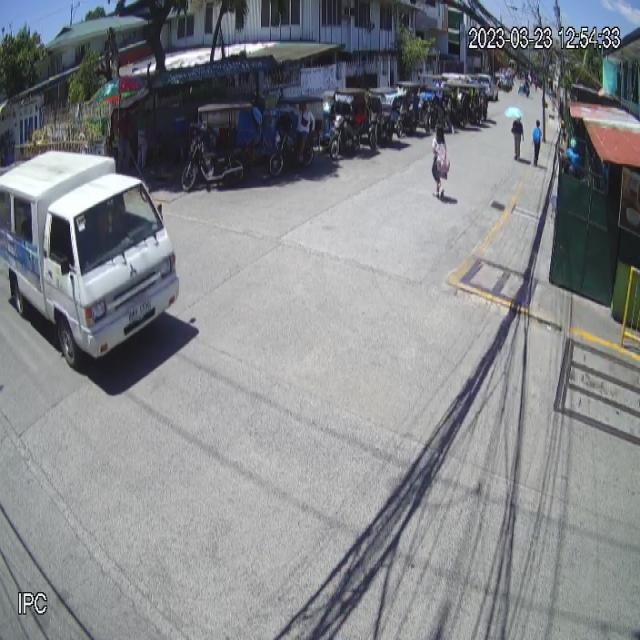Van: (0, 145, 182, 376)
